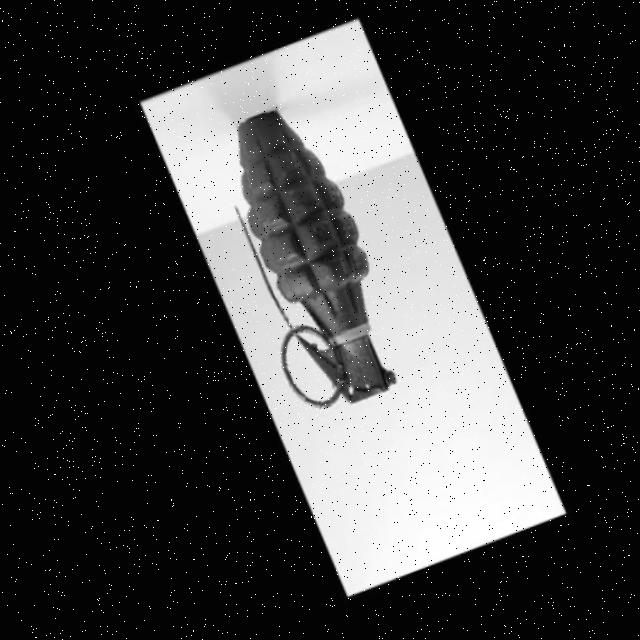grenade: (160, 45, 447, 456)
